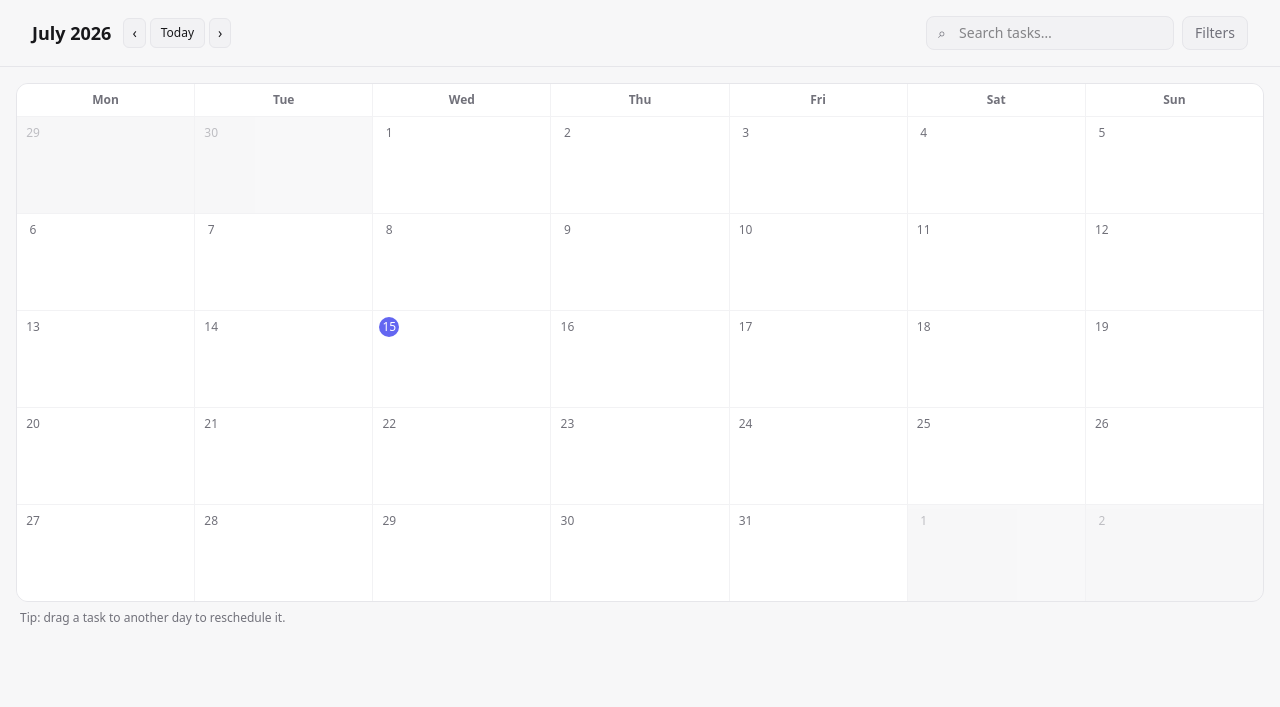
Scenario: CalendarPage › navigates months
Click the button "›" at (220, 33), box [209,18,231,48]
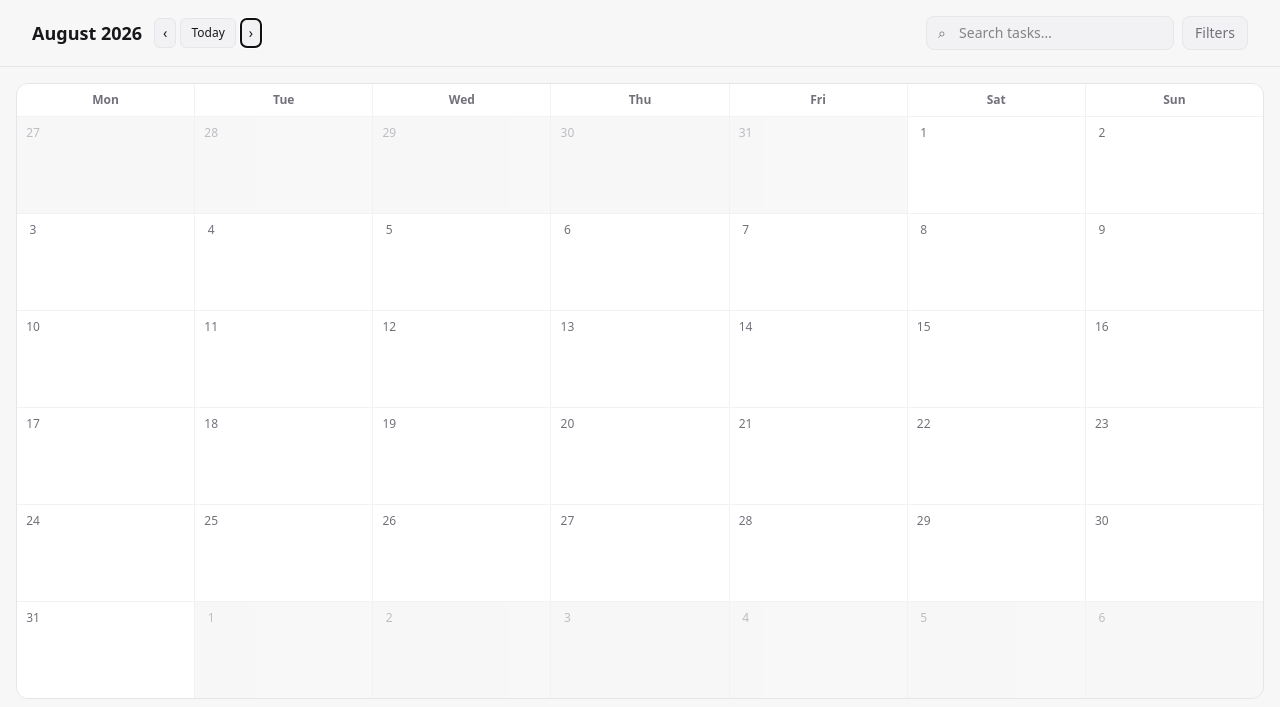
Check: the heading "August 2026" is shown, box [32,19,142,47]
Click the button "‹" at (165, 33), box [154,18,176,48]
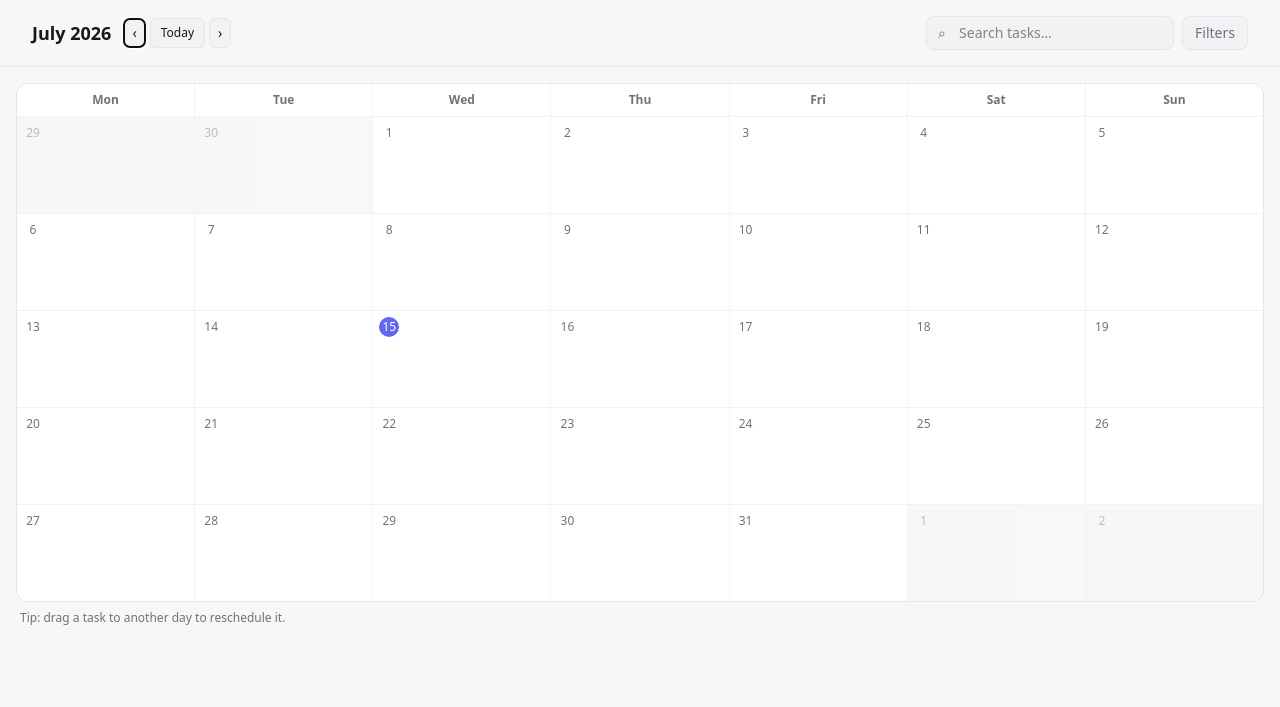
Check: the heading "July 2026" is shown, box [32,19,111,47]
Click the button "›" at (220, 33), box [209,18,231,48]
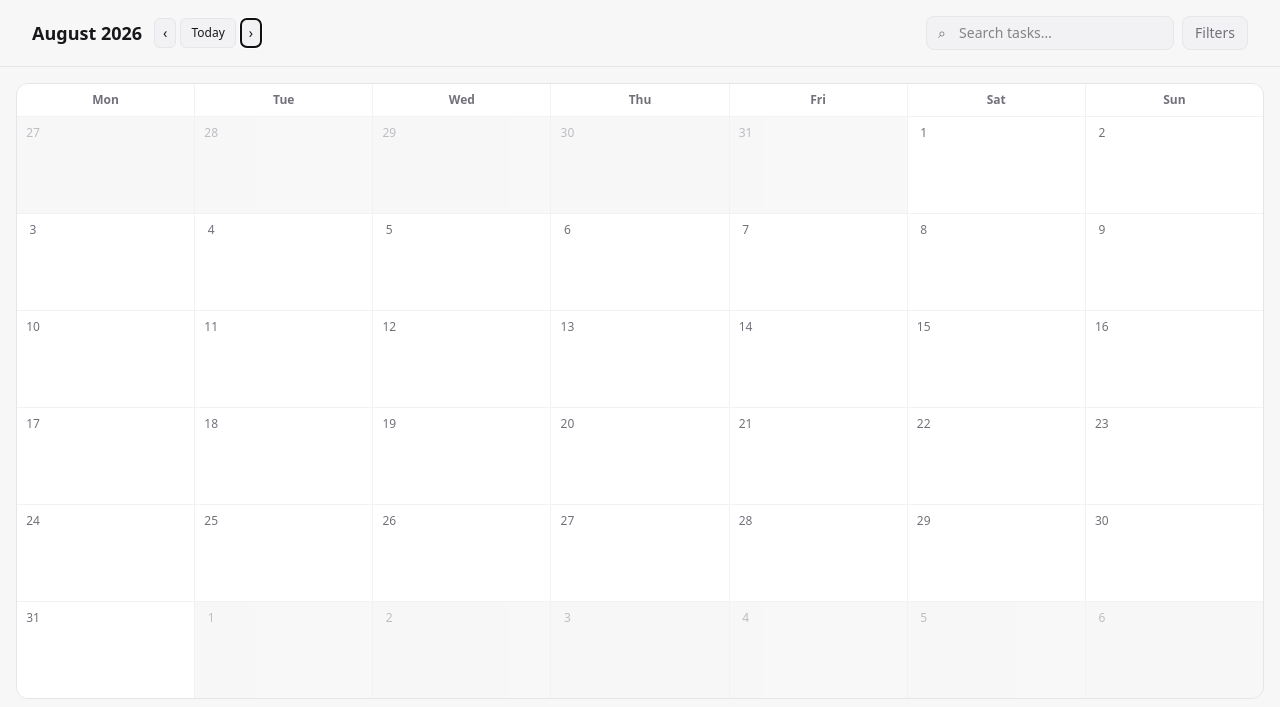
Click the button "Today" at (208, 33), box [180,18,236,48]
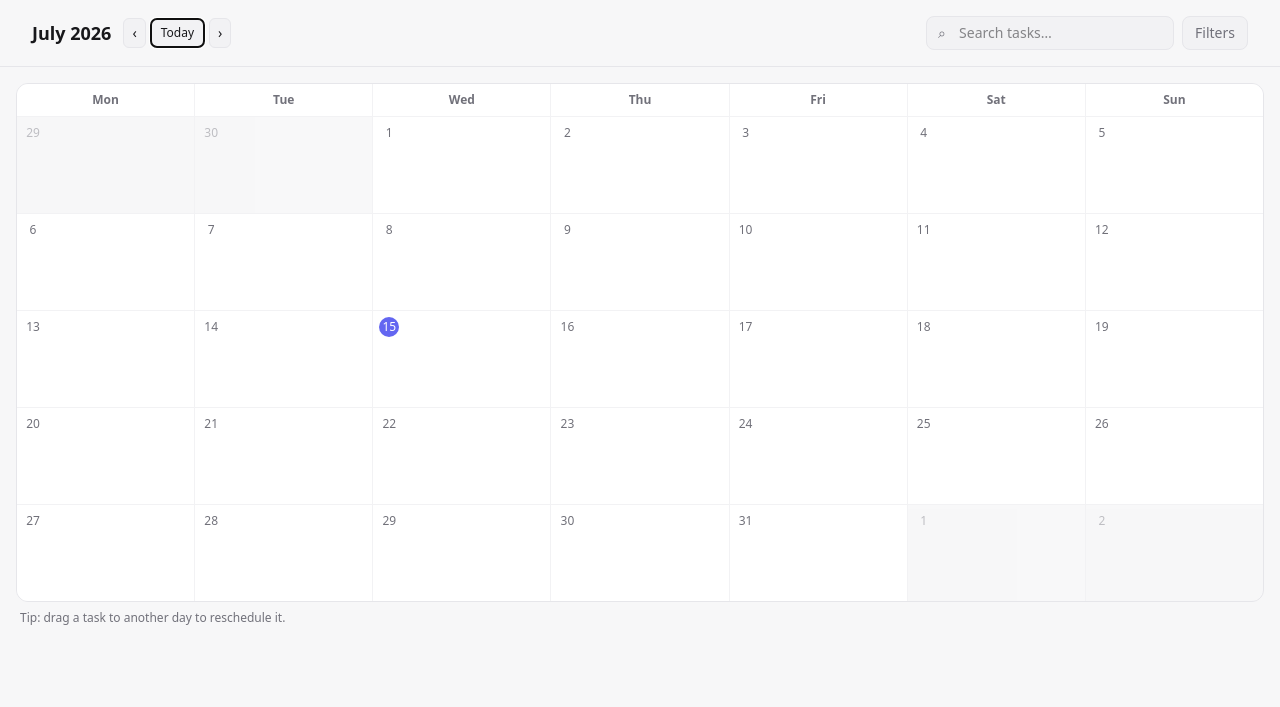
Check: the heading "July 2026" is shown, box [32,19,111,47]
